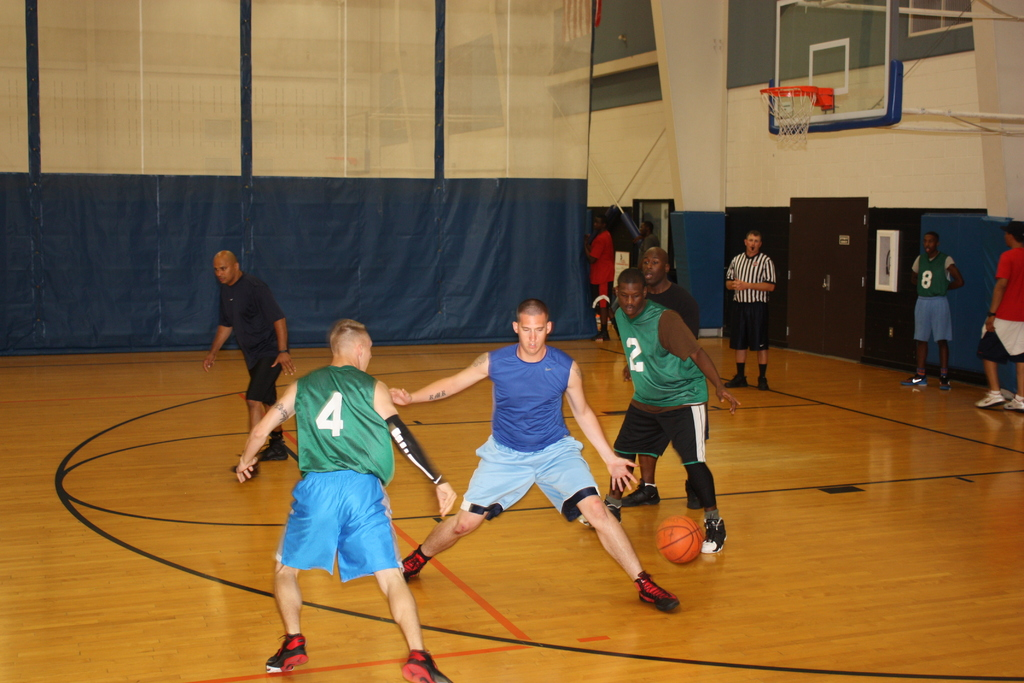Ball: (658, 516, 706, 565)
